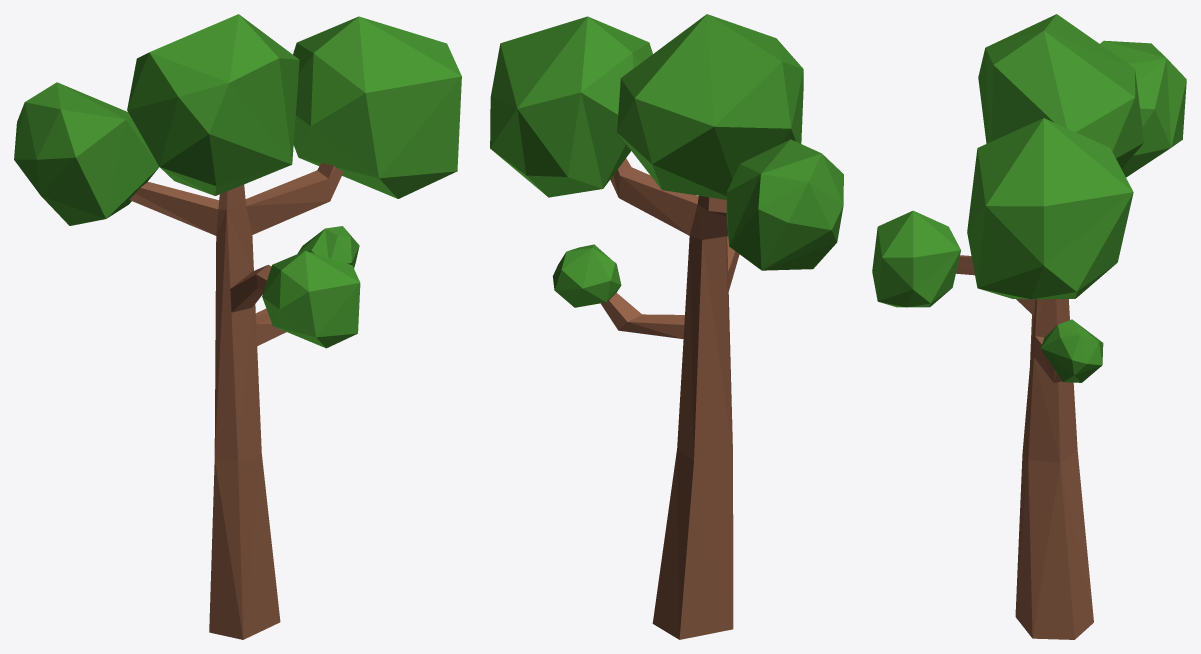
The model's file is Tree03.glb.
The picture shows the model from 3 angles, left to right: view 1: azimuth 30°, elevation 25°; view 2: azimuth 150°, elevation 25°; view 3: azimuth 270°, elevation 25°; orthographic projection. The views are drawn at different scales.
Parts seen in each view (by area): view 1: Tree_02; view 2: Tree_02; view 3: Tree_02.
Boxes of the visible parts, bbox=[...] form: Tree_02: bbox=[14, 14, 461, 639]; Tree_02: bbox=[490, 14, 843, 639]; Tree_02: bbox=[872, 14, 1186, 639].
Bounding box in the file's own units: 18.7 × 27.84 × 13.43.
1 material, 1 textured.
